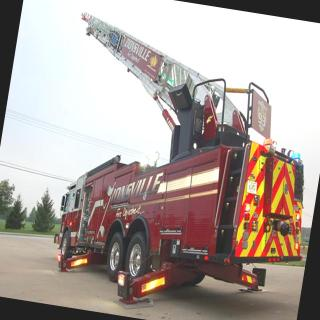Fire_truck: (37, 10, 320, 320)
